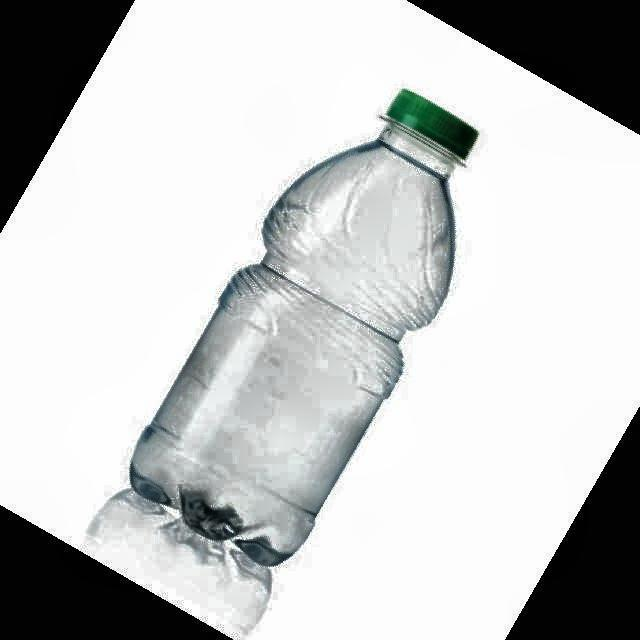plastic: (130, 90, 478, 568)
